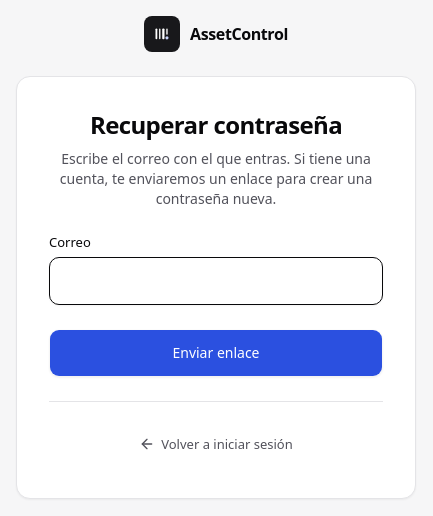
Test: /recuperar › desde el éxito se puede volver al login o pedir otro enlace con el correo ya escrito
The image size is (433, 516).
Type "nadie.sabe@ejemplo.test" into the field labelled "Correo".
click(216, 280); type("nadie.sabe@ejemplo.test")  # box [49,256,383,304]
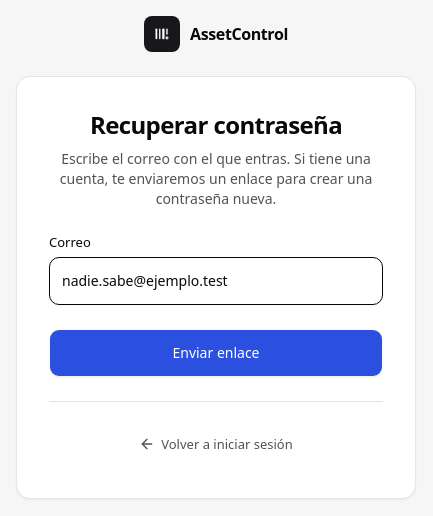
Click the button "Enviar enlace".
click(216, 352)  # box [49,328,383,376]
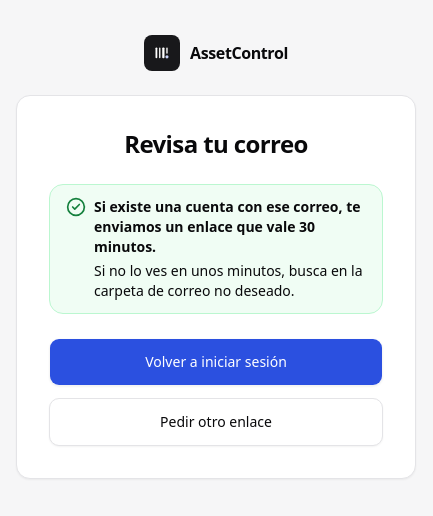
Click the button "Pedir otro enlace".
click(216, 422)  # box [49,398,383,446]
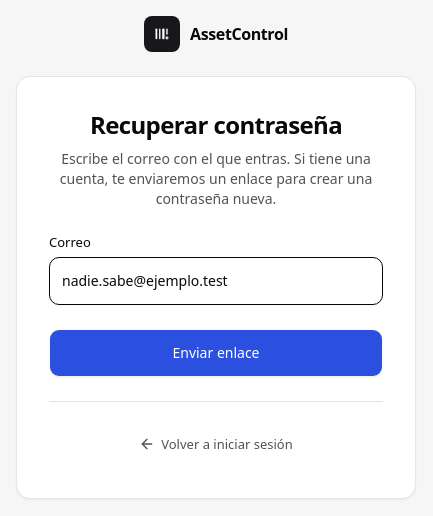
Expected: the field labelled "Correo" holds "nadie.sabe@ejemplo.test", [49,256,383,304]
